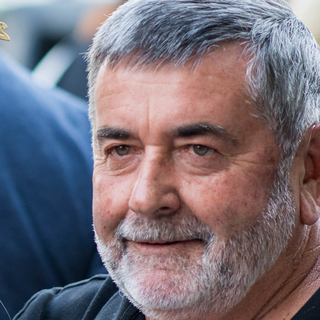eye: (175, 138, 228, 162), (100, 138, 143, 163)
